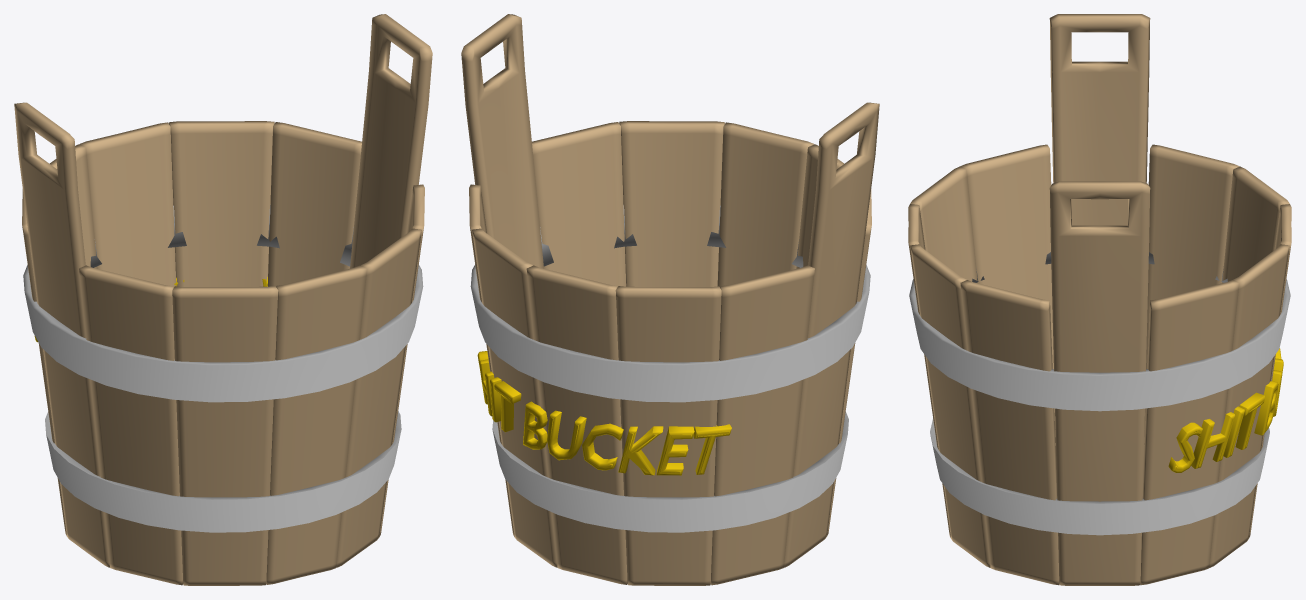
File: ShitBucket.fbx
3 views of the same model, side by side, from view 1: azimuth 30°, elevation 25°; view 2: azimuth 150°, elevation 25°; view 3: azimuth 270°, elevation 25° (orthographic). The views are drawn at different scales.
Visible parts, largest first — view 1: BUCKET; view 2: BUCKET; view 3: BUCKET.
Boxes of the visible parts, box(x1,y1,x2,y2) form: BUCKET: box(14, 14, 432, 585); BUCKET: box(461, 14, 879, 585); BUCKET: box(908, 14, 1291, 585).
Size of the model in its own units: 272 by 313 by 257.
